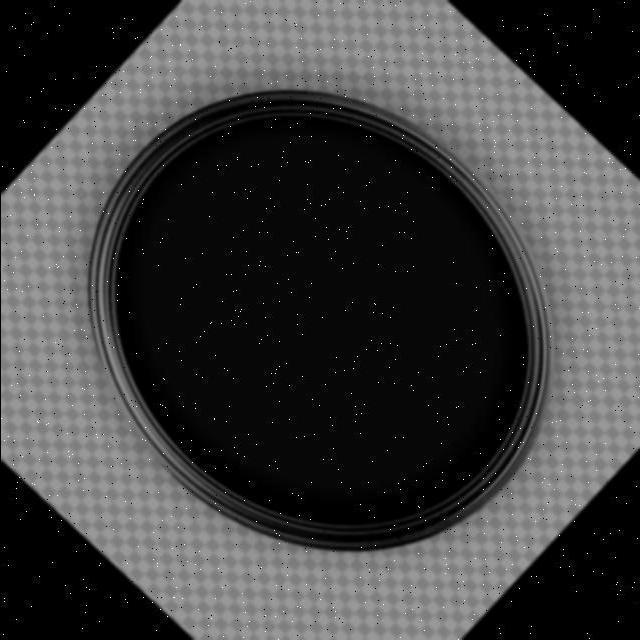Circle: (83, 86, 562, 558)
